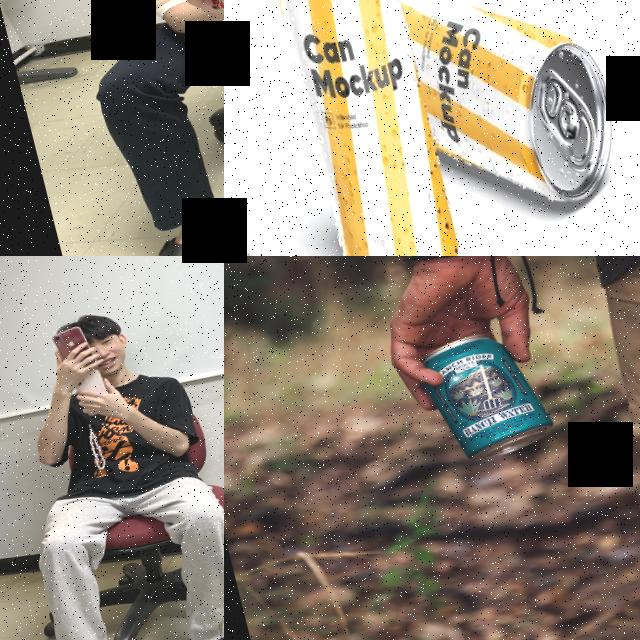can: (239, 0, 470, 256), (395, 0, 634, 235), (412, 321, 559, 472)
